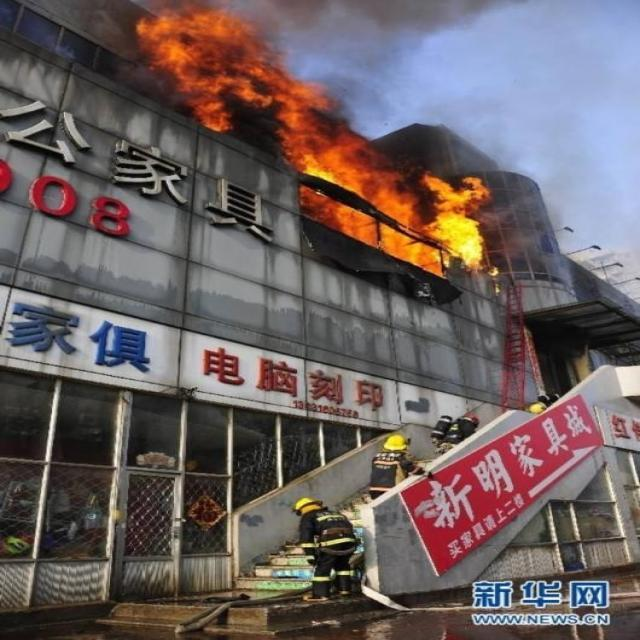Fire: (132, 1, 504, 298)
Smoke: (222, 0, 606, 282), (108, 60, 182, 109)
